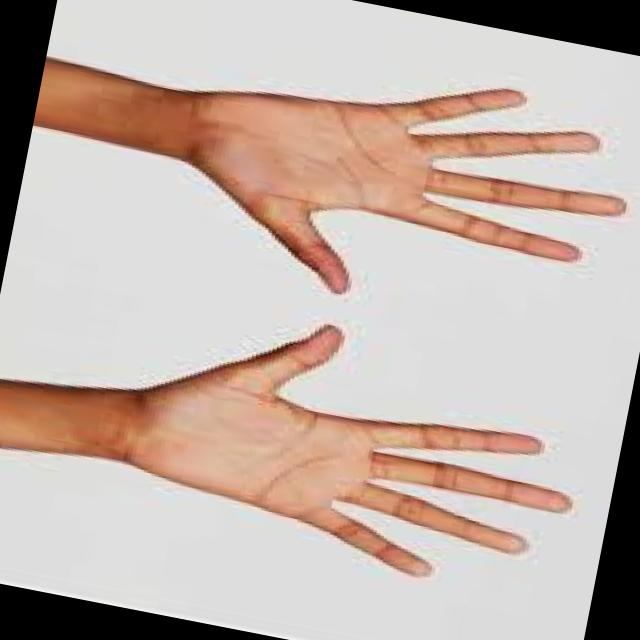Hand: (95, 282, 607, 612), (144, 21, 640, 351)
